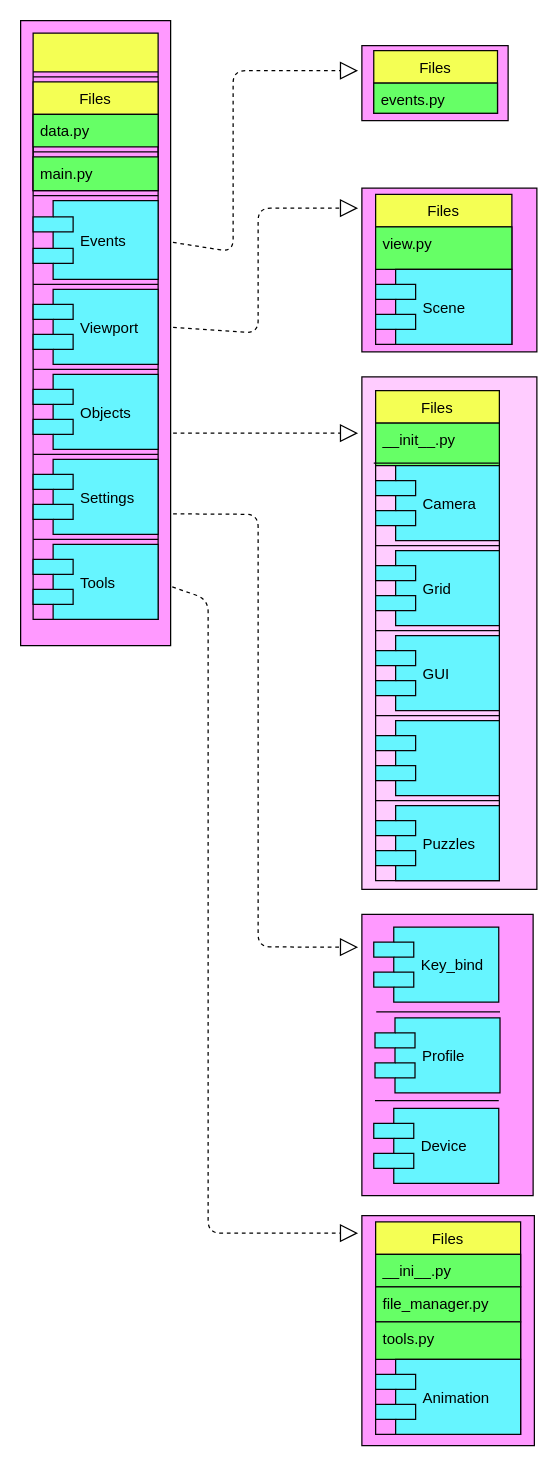
Some shapes in this 558 by 1466 pixel diagram are drawn without their labels. The box of each missing label's shape, as (x1, y1, x2, y2) in pixels:
Primitives: (374, 719, 499, 796)
RubiCube: (32, 32, 158, 619)
